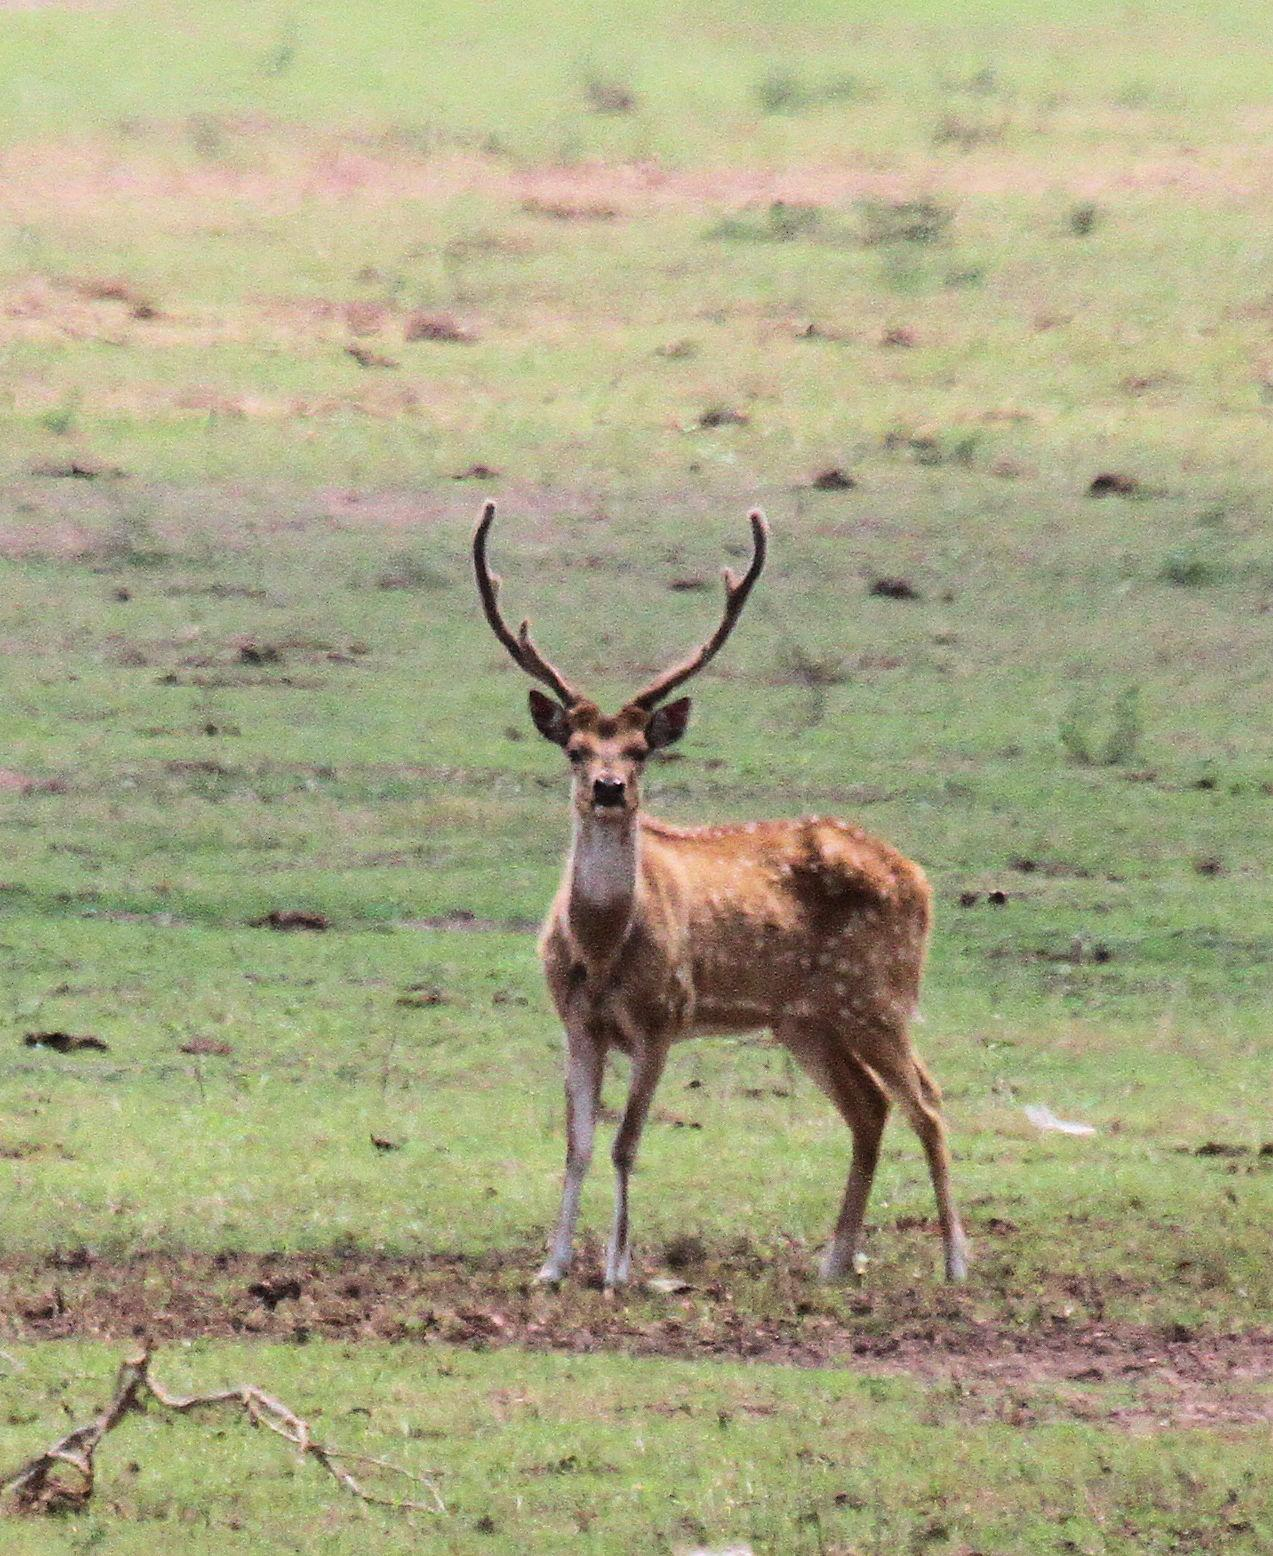Deer: (473, 501, 967, 1288)
